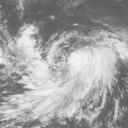cyclone: (25, 35, 118, 121)
